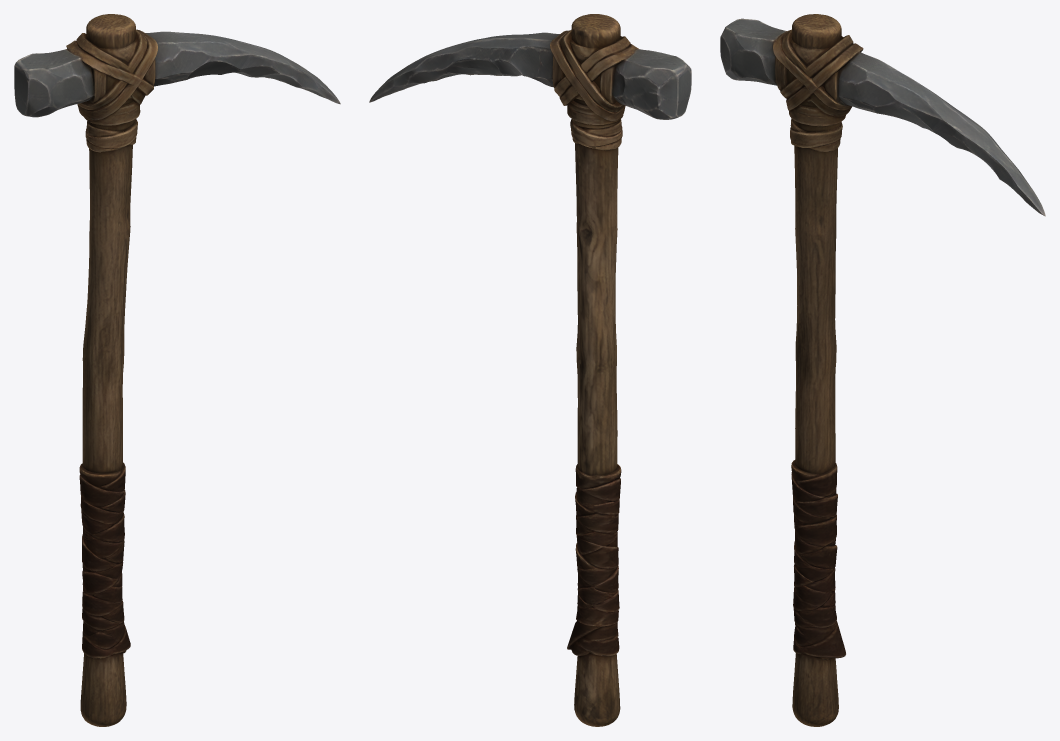
File: stone_pickaxe.glb
The picture shows the model from 3 angles, left to right: view 1: azimuth 30°, elevation 25°; view 2: azimuth 150°, elevation 25°; view 3: azimuth 330°, elevation 25°; orthographic projection.
Visible parts, largest first — view 1: Stone Pickaxe Native Mesh; view 2: Stone Pickaxe Native Mesh; view 3: Stone Pickaxe Native Mesh.
Part boxes in pixels (<box>): Stone Pickaxe Native Mesh: <box>14,14,340,726</box>; Stone Pickaxe Native Mesh: <box>369,14,691,726</box>; Stone Pickaxe Native Mesh: <box>720,14,1045,726</box>.
Size of the model in its own units: 0.3406 by 0.72 by 0.0586.
Materials: 1 (1 with a texture image).
